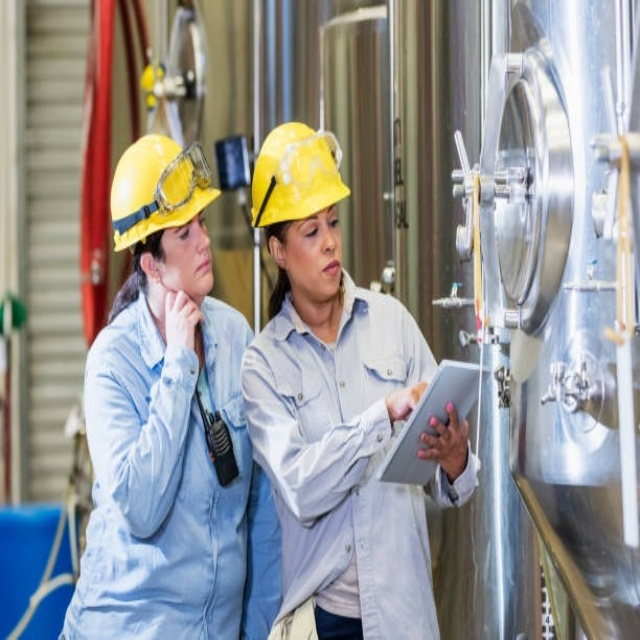Sin_gafas: (295, 204, 345, 240), (168, 209, 211, 245)
Sin_guantes: (418, 398, 470, 482), (162, 287, 205, 347), (385, 380, 429, 423)
Sin_mascara: (186, 250, 214, 288), (316, 255, 342, 290)
